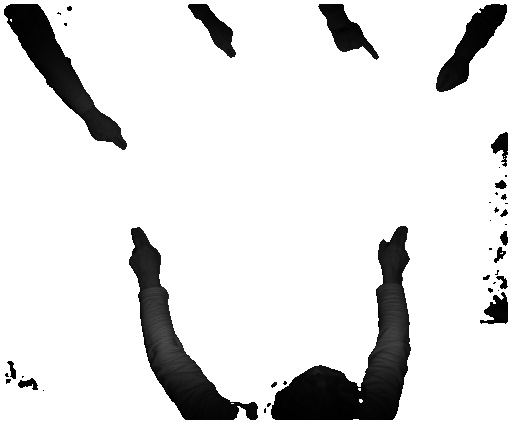fist: (432, 56, 473, 95)
hand: (332, 19, 383, 63), (376, 224, 415, 281), (128, 224, 165, 283), (203, 17, 239, 63), (87, 110, 127, 151)
